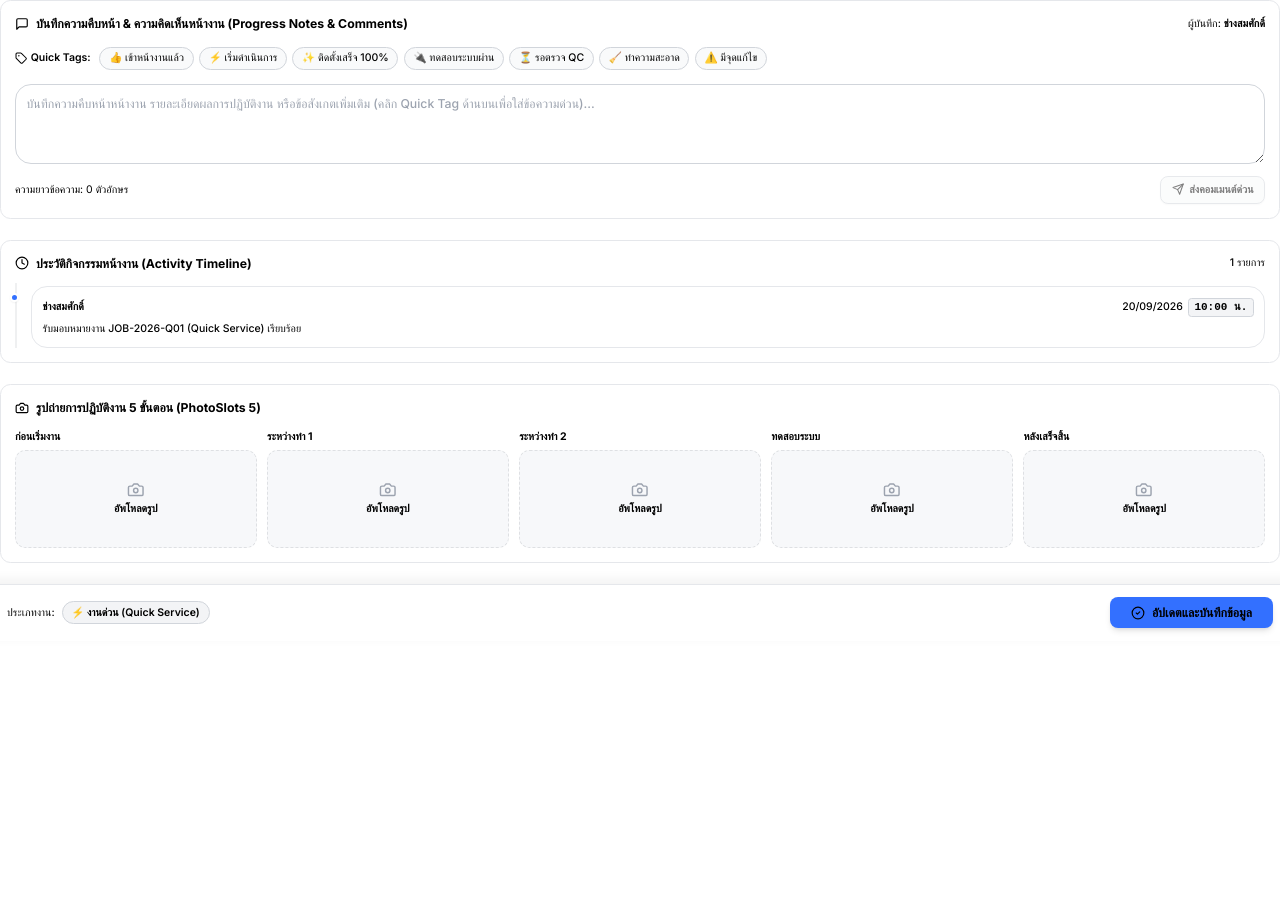
it: JobActiveWorkspace Component › supports Hybrid Comment Action ("ส่งคอมเมนต์ด่วน") without advancing workflow status
The image size is (1280, 900).
Type "แจ้งอัปเดตหน้างาน: รอสายไฟเพิ่มเติม" into the text box labelled "บันทึกความคืบหน้า". click: (640, 124)
box: [15,84,1265,164]
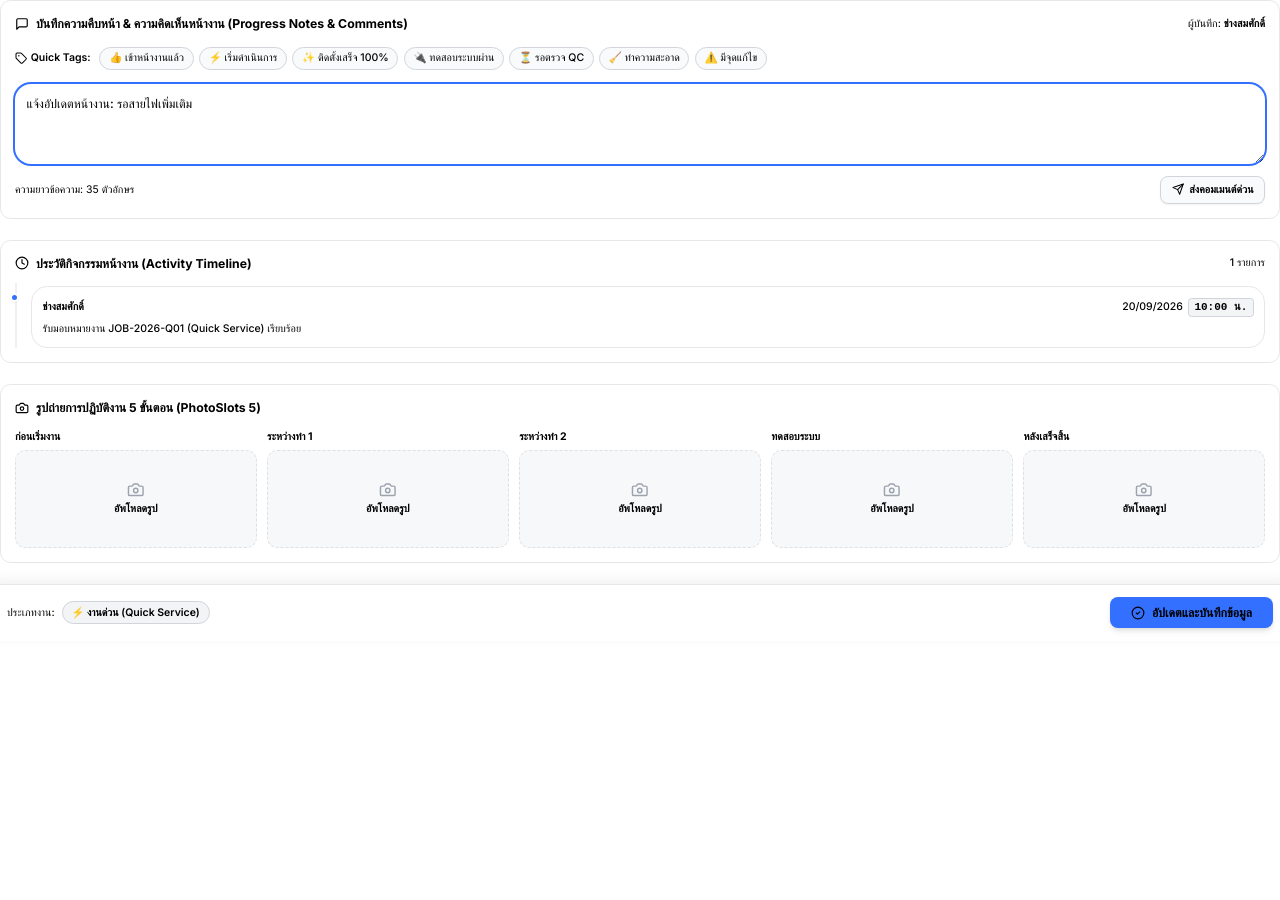
Check: the button "ส่งคอมเมนต์ด่วน" is enabled
Click the button "ส่งคอมเมนต์ด่วน". click: (1213, 190)
box: [1160,176,1265,204]
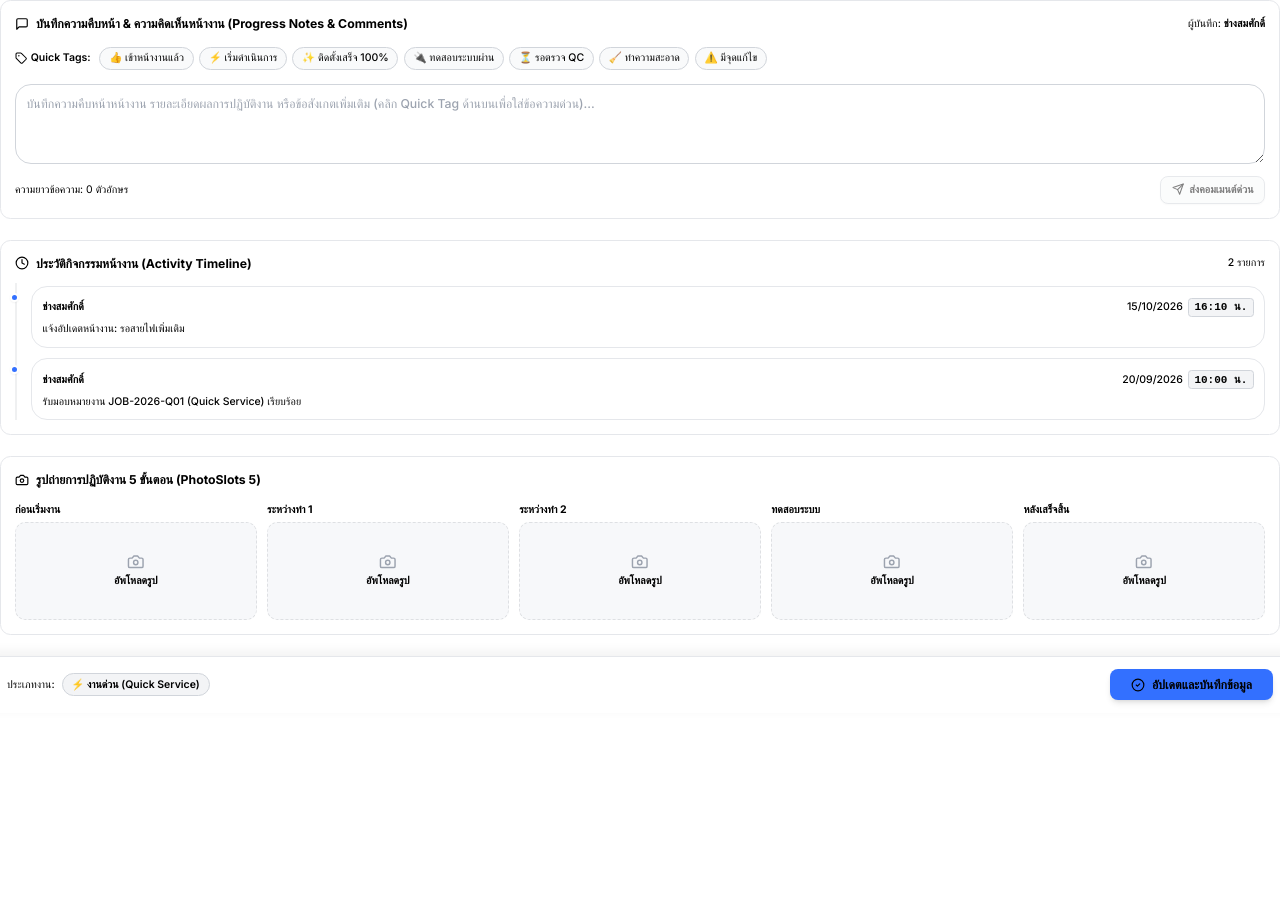
Check: the text box labelled "บันทึกความคืบหน้า" is empty, box [15,84,1265,164]
Check: the text "แจ้งอัปเดตหน้างาน: รอสายไฟเพิ่มเติม" is shown, box [42,322,185,335]
